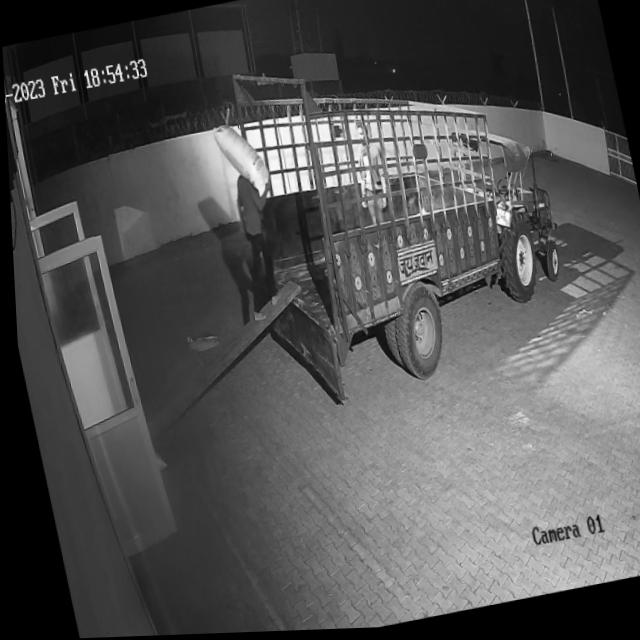sack: (209, 118, 271, 204)
